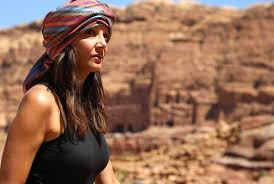middle_eastern_Female: (67, 23, 112, 69)
